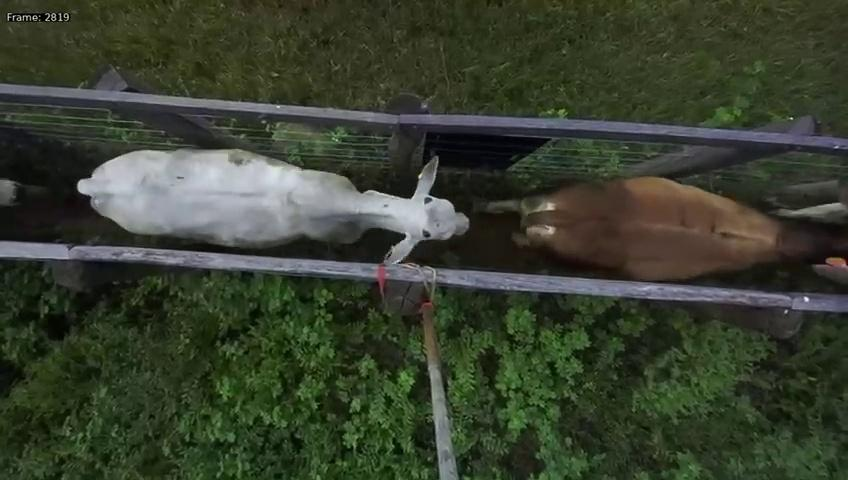cattle: (73, 126, 470, 264)
